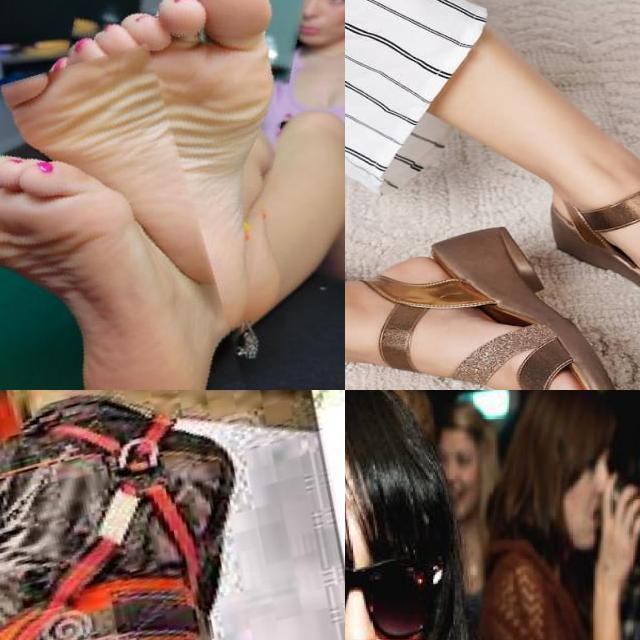Barefoots: (41, 0, 293, 322), (0, 62, 170, 390)
Harness: (0, 417, 203, 640)
Sandals: (345, 226, 638, 390), (551, 165, 640, 378)
face_nomask: (345, 555, 428, 640)
glasses: (345, 535, 435, 640)
hand_noglove: (595, 477, 640, 564)
head_nohelmet: (345, 390, 437, 506), (504, 393, 625, 465)
person: (345, 390, 556, 640), (476, 390, 640, 640)
